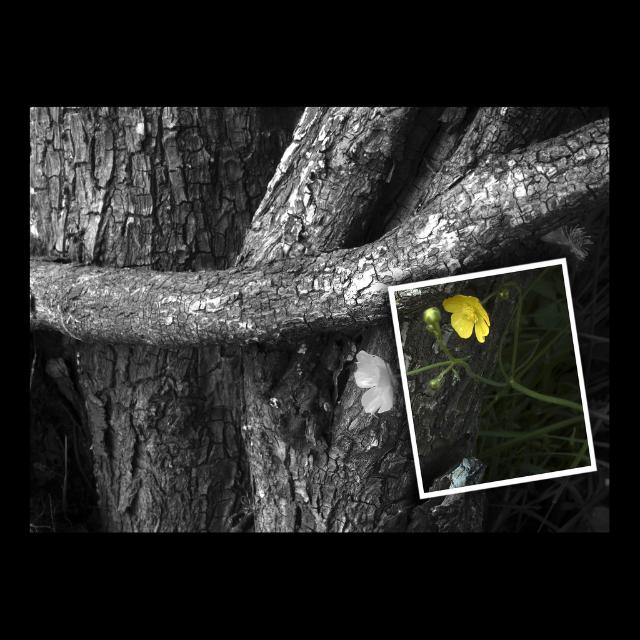Flower: (351, 352, 399, 416), (442, 292, 500, 344), (540, 221, 592, 263), (422, 306, 440, 324), (428, 380, 439, 390), (424, 322, 434, 332)
